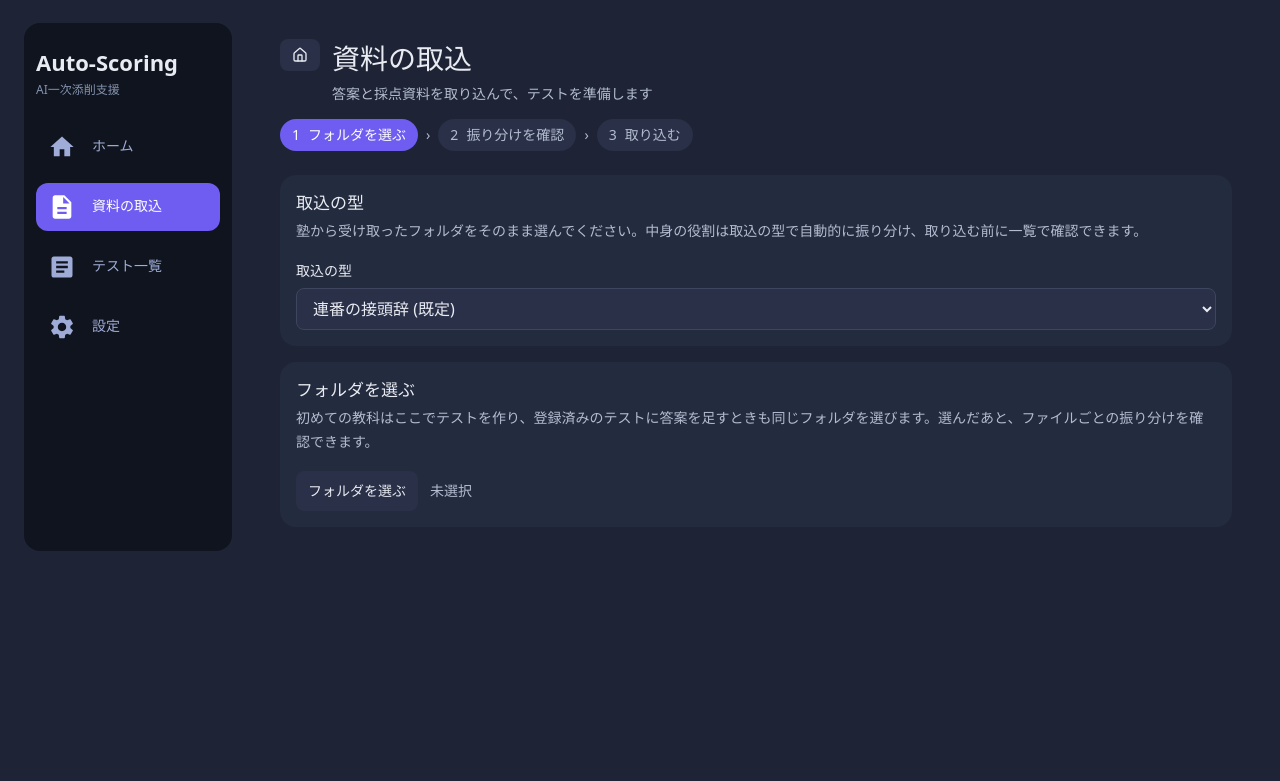
Test case: Issue #384 (1): folder-level bulk include/exclude › the bulk exclude flows into the estimated AI cost
This screenshot has width=1280, height=781.
Expected: the dropdown with test id "intake-template-picker" is shown, x1=296 y1=288 x2=1216 y2=330
Click the button with test id "intake-choose-folder": click(357, 491) x1=296 y1=471 x2=418 y2=511
(page scrolled)
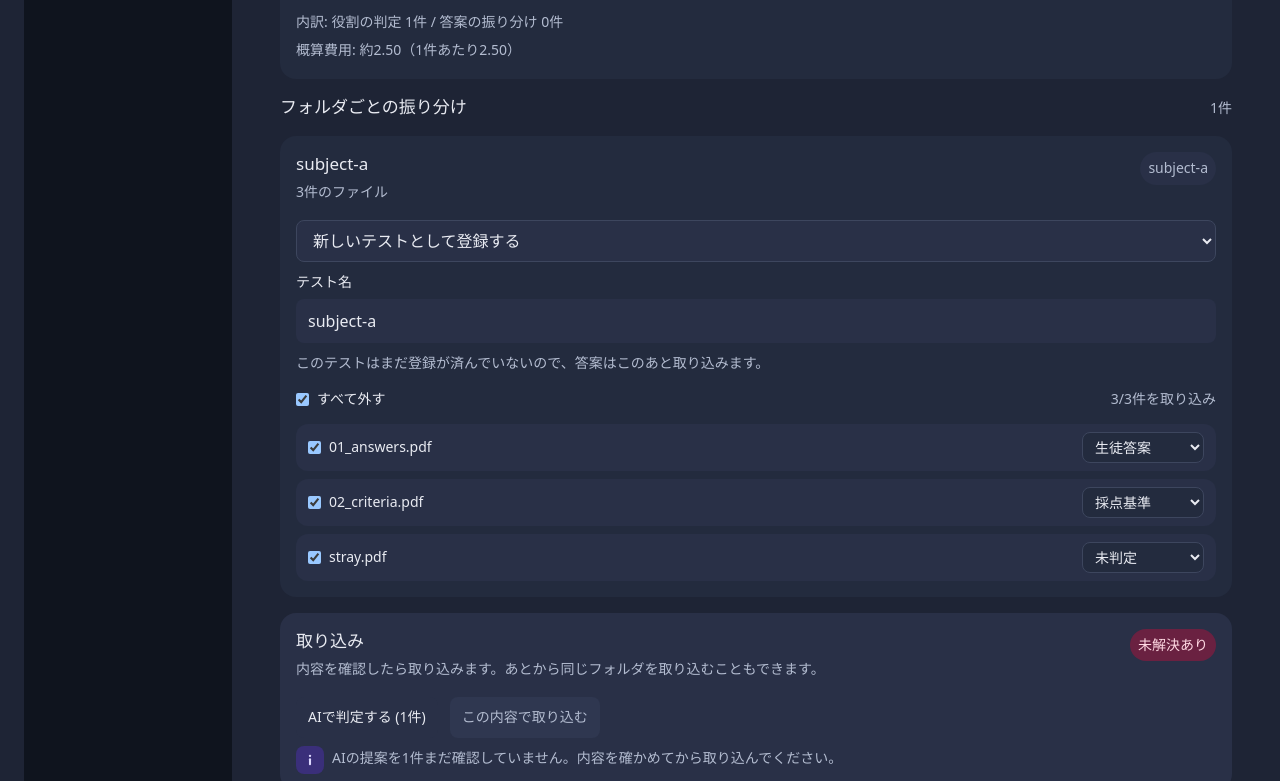
Expected: the text "概算費用: 約2.50（1件あたり2.50）" is shown, x1=296 y1=40 x2=521 y2=59
Click the checkbox with test id "intake-group-include-subject-a": click(302, 400) x1=296 y1=393 x2=309 y2=406
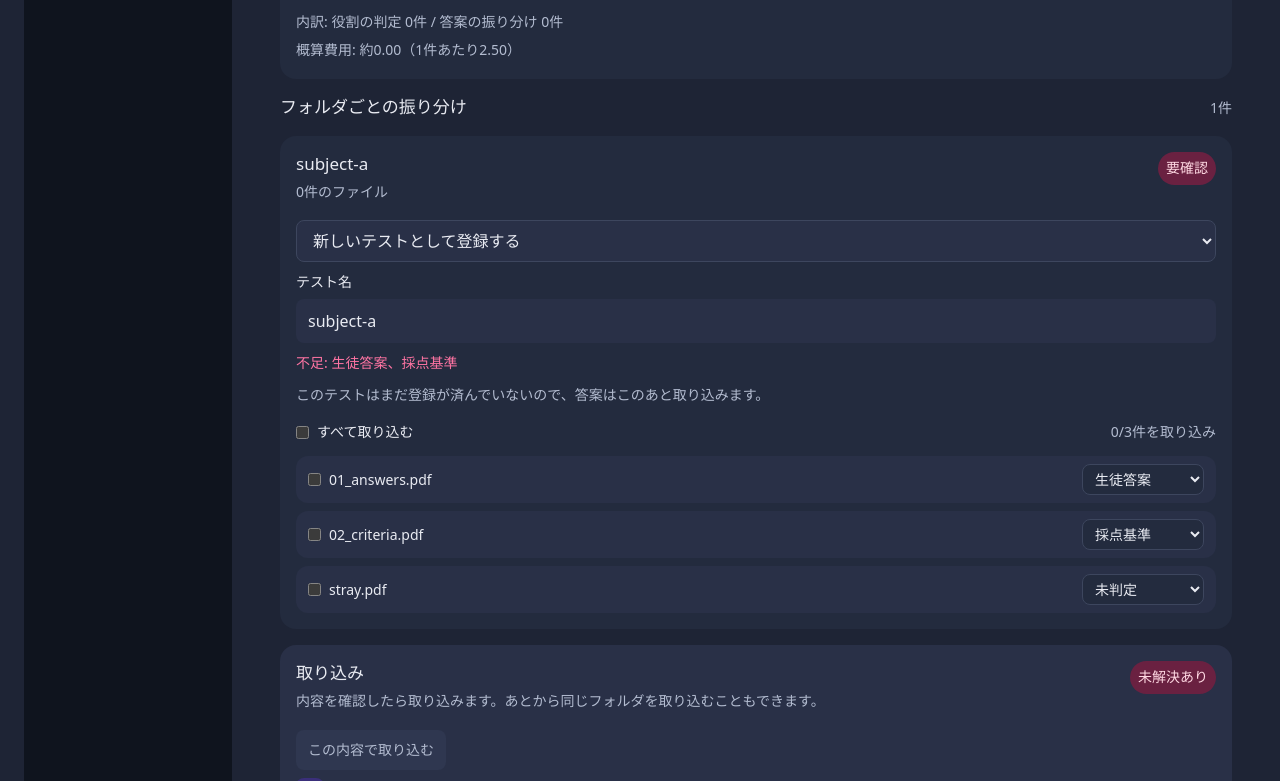
Expected: the text "概算費用: 約0.00（1件あたり2.50）" is shown, x1=296 y1=40 x2=521 y2=59
Expected: the button with test id "intake-run-classification" is gone
